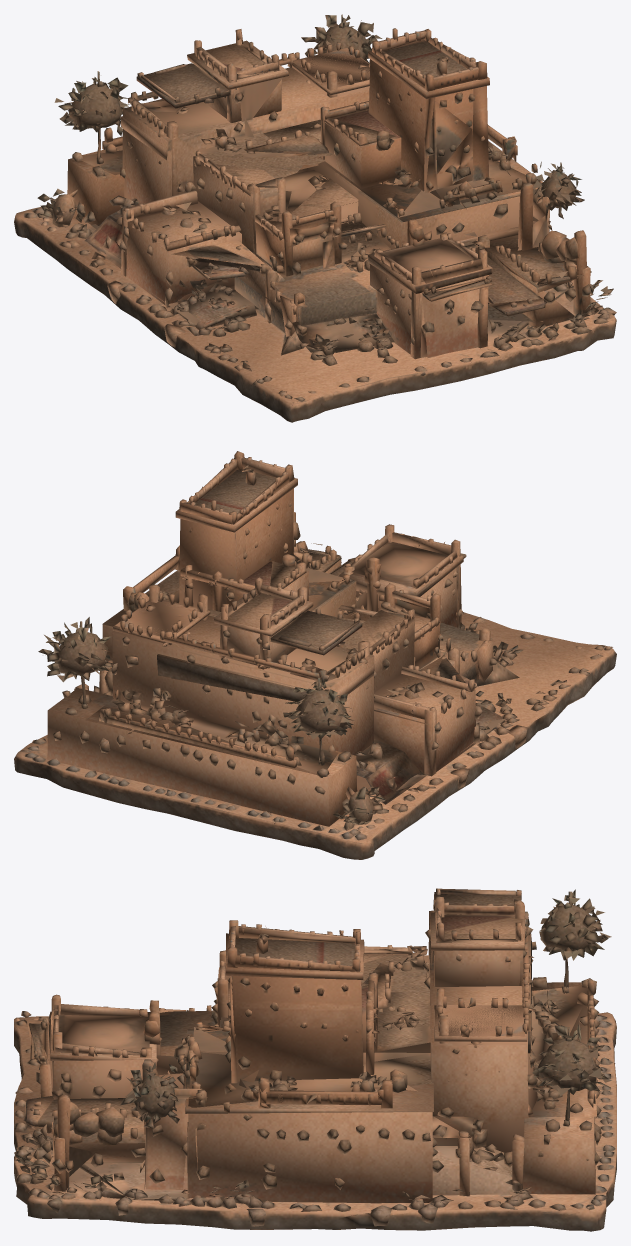
The model's file is marokko buildings 1-web.glb.
The picture shows the model from 3 angles, top to bottom: view 1: azimuth 30°, elevation 25°; view 2: azimuth 150°, elevation 25°; view 3: azimuth 270°, elevation 25°; orthographic projection. The views are drawn at different scales.
Size of the model in its own units: 0.8066 by 0.458 by 1.
Materials: 1 (1 with a texture image).
